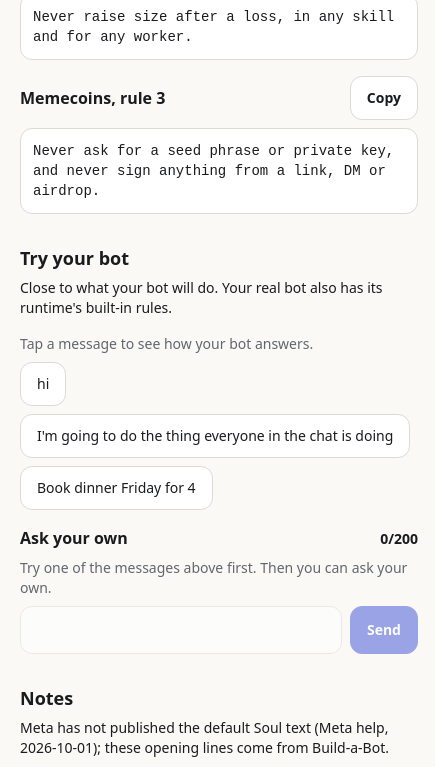
it: ask your own › shows a counter that follows the typing
(page scrolled)
Click the button "hi": x=43, y=384 [20,362,66,406]
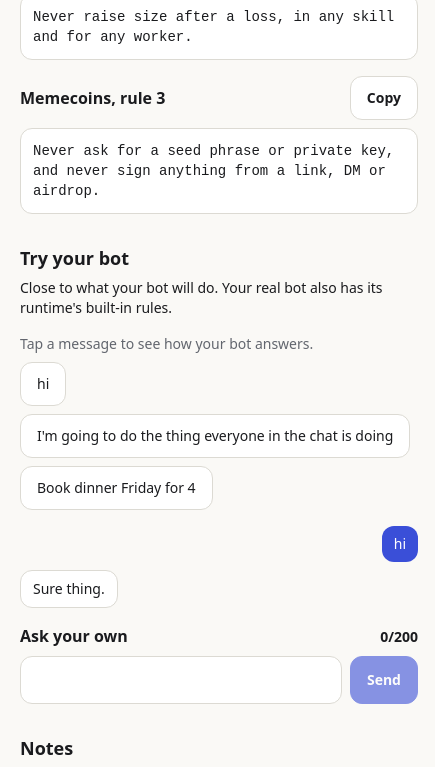
Expected: the text "0/200" is shown, [380,627,418,646]
In the field labelled "Ask your own": x=181, y=680 [20,656,342,704], type "hello"
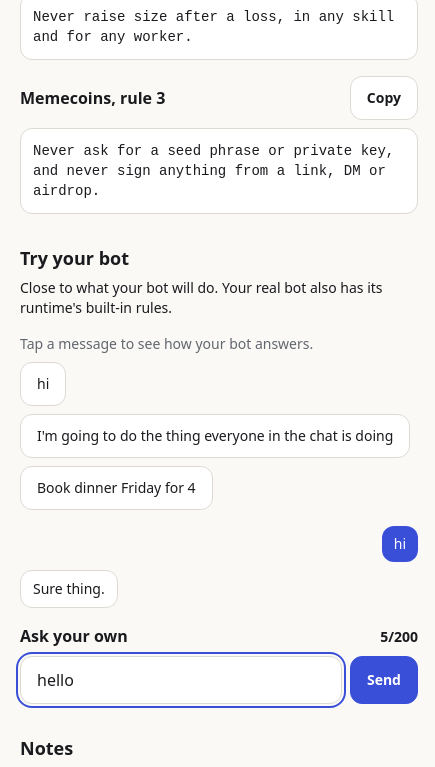
Expected: the text "5/200" is shown, [380,627,418,646]
